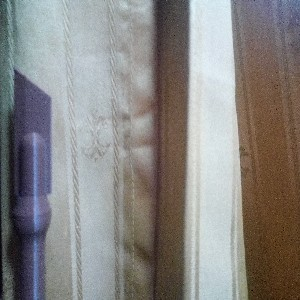cutter: (9, 68, 53, 300)
